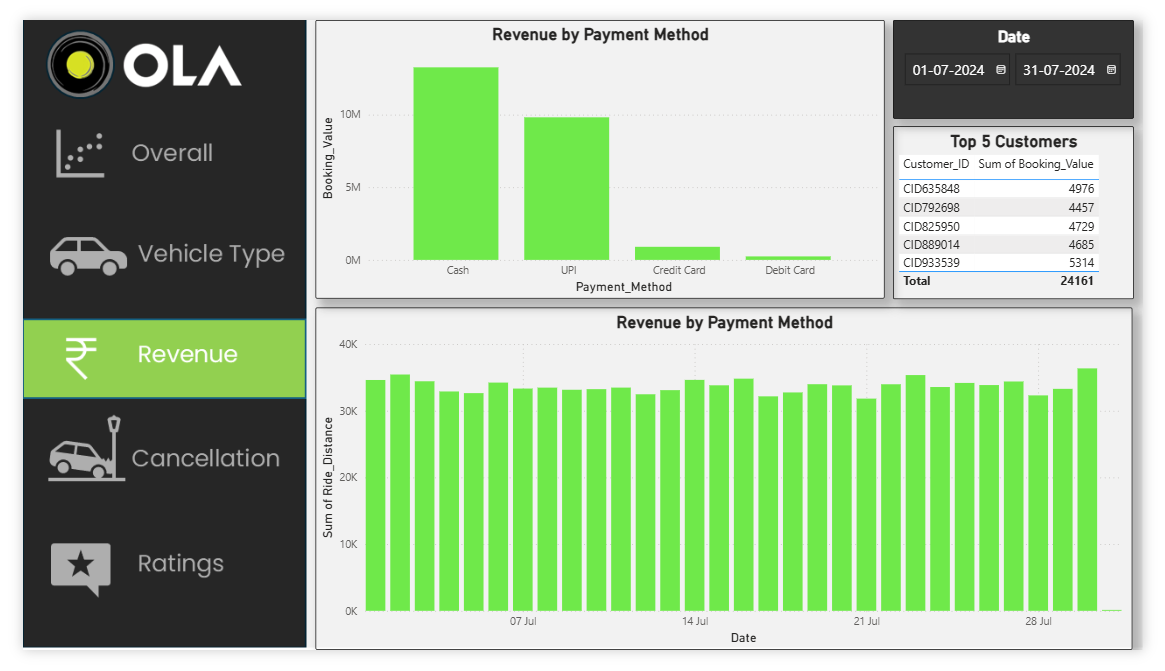

The page's visual inventory and layout, read from the dashboard file:
{"tool":"powerbi","page":{"name":"Revenue","canvas":[1280,720],"ordinal":2},"visuals":[{"type":"actionButton","box":[0,222.1,322.7,95.7],"z":0},{"type":"actionButton","box":[0,338.7,322.7,90.8],"z":1000},{"type":"actionButton","box":[0,444.2,322.7,90.8],"z":2000},{"type":"actionButton","box":[0,579.1,322.7,90.8],"z":3000},{"type":"actionButton","box":[0,102.9,322.5,96.1],"z":4000},{"type":"columnChart","title":"Revenue by Payment Method","fields":{"Y":["Sum(Bookings.Booking_Value)"],"Category":["Bookings.Payment_Method"]},"box":[335,0,650,318.8],"z":5000},{"type":"columnChart","title":"Revenue by Payment Method","fields":{"Y":["Sum(Bookings.Ride_Distance)"],"Category":["Bookings.Date"]},"box":[335,328.8,933.8,391.2],"z":6000},{"type":"slicer","title":"Date","fields":{"Values":["Bookings.Date"]},"box":[993.8,0,275,112.5],"z":7000},{"type":"tableEx","title":"Top 5 Customers","fields":{"Values":["Bookings.Customer_ID","Sum(Bookings.Booking_Value)"]},"box":[993.8,121.2,275,197.5],"z":8000}]}

Visuals, with their boxes in screenshot pixels (x1, y1, x2, y2), scaled from the page's 1280x720 canvas onto the 1165x671 screenshot:
actionButton: [x1=0, y1=207, x2=294, y2=296]
actionButton: [x1=0, y1=316, x2=294, y2=400]
actionButton: [x1=0, y1=414, x2=294, y2=499]
actionButton: [x1=0, y1=540, x2=294, y2=624]
actionButton: [x1=0, y1=96, x2=294, y2=185]
"Revenue by Payment Method" columnChart: [x1=305, y1=0, x2=897, y2=297]
"Revenue by Payment Method" columnChart: [x1=305, y1=306, x2=1155, y2=670]
"Date" slicer: [x1=905, y1=0, x2=1155, y2=105]
"Top 5 Customers" tableEx: [x1=905, y1=113, x2=1155, y2=297]
